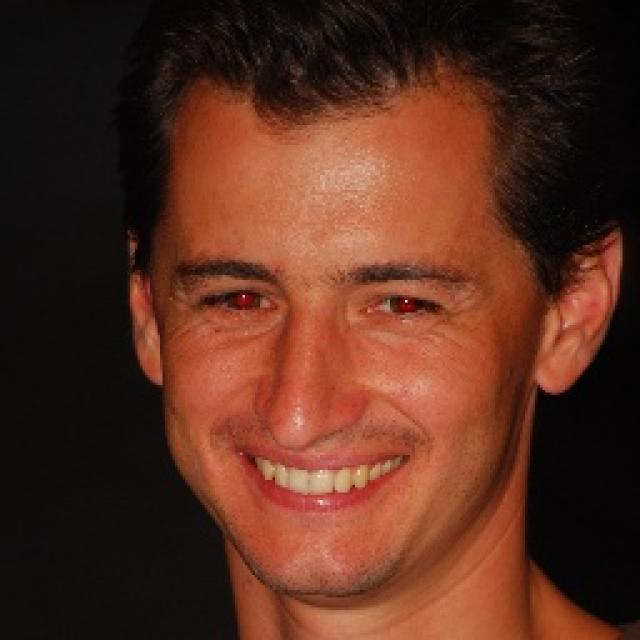earlobe: (536, 217, 624, 398), (124, 227, 168, 388)
